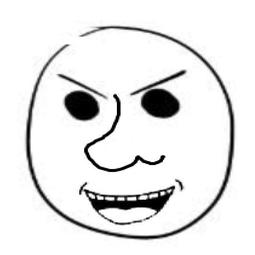eye: (139, 87, 181, 121), (61, 90, 100, 123)
frowning_eyebrow: (125, 68, 188, 96), (54, 72, 108, 101)
large_nose: (79, 91, 167, 172)
open_mouth: (70, 177, 187, 229)
